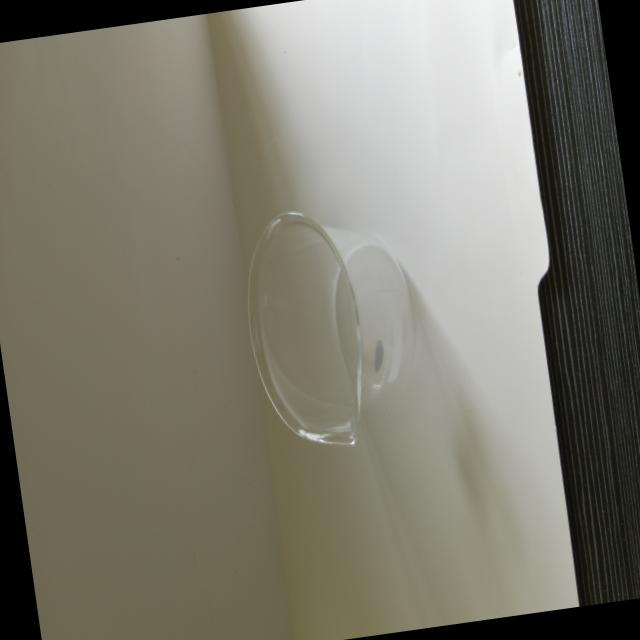beaker: (228, 188, 434, 465)
